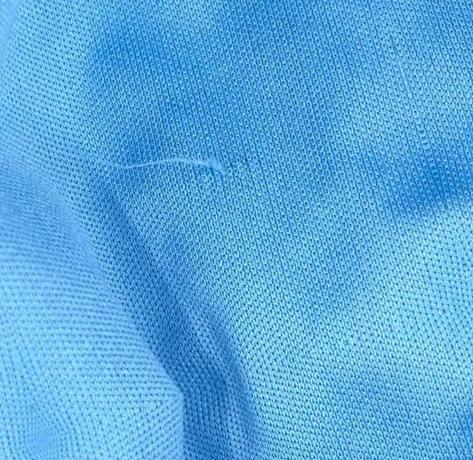snag: (87, 143, 241, 191)
